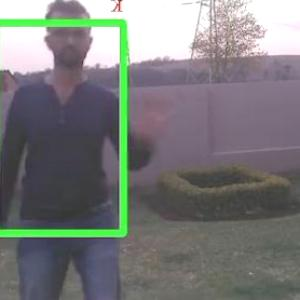follow_hand: (128, 85, 180, 140)
